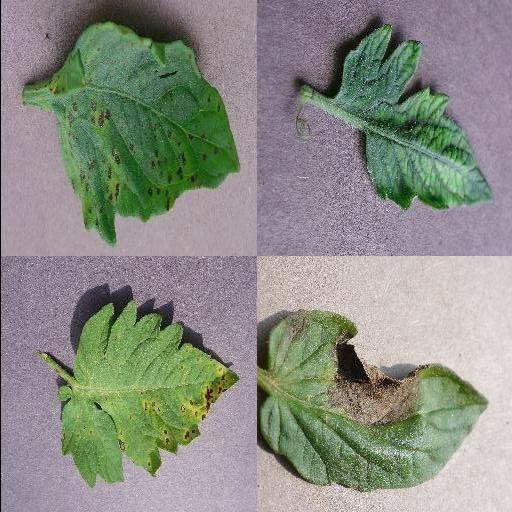Late Blight: (256, 309, 491, 492)
Mosaic Virus: (336, 26, 496, 212)
Septoria: (47, 23, 241, 247), (56, 302, 240, 488)
